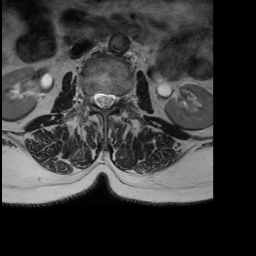CCS_normal: (101, 83, 108, 117)
LFS_normal: (115, 86, 123, 110)
LLS_normal: (108, 85, 115, 111)
RFS_normal: (84, 84, 93, 110)
RLS_normal: (93, 84, 101, 112)
